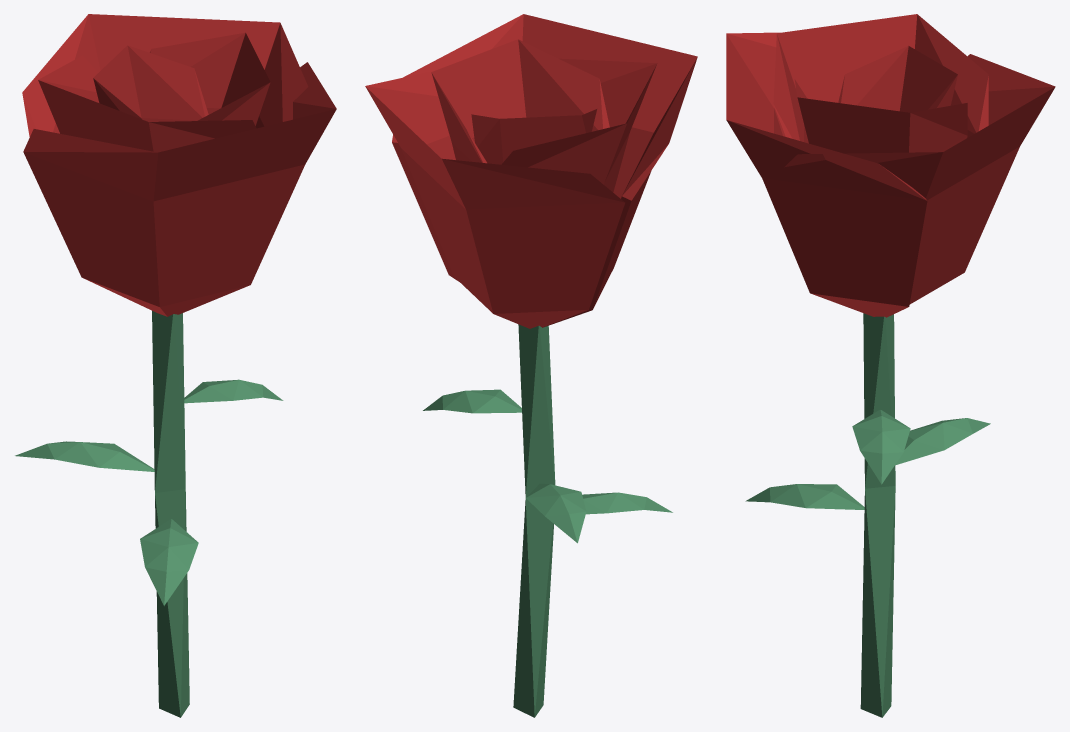
Rendered from Prop_Flower_Rose.glb.
The picture shows the model from 3 angles, left to right: view 1: azimuth 30°, elevation 25°; view 2: azimuth 150°, elevation 25°; view 3: azimuth 270°, elevation 25°; orthographic projection. The views are drawn at different scales.
Parts seen in each view (by area): view 1: Prop_Flower_Rose_Merged; view 2: Prop_Flower_Rose_Merged; view 3: Prop_Flower_Rose_Merged.
Boxes of the visible parts, x1,y1,x2,y2 form: Prop_Flower_Rose_Merged: (15,14,336,717); Prop_Flower_Rose_Merged: (365,14,697,717); Prop_Flower_Rose_Merged: (726,14,1055,717).
Bounding box in the file's own units: 0.2227 × 0.4917 × 0.2295.
